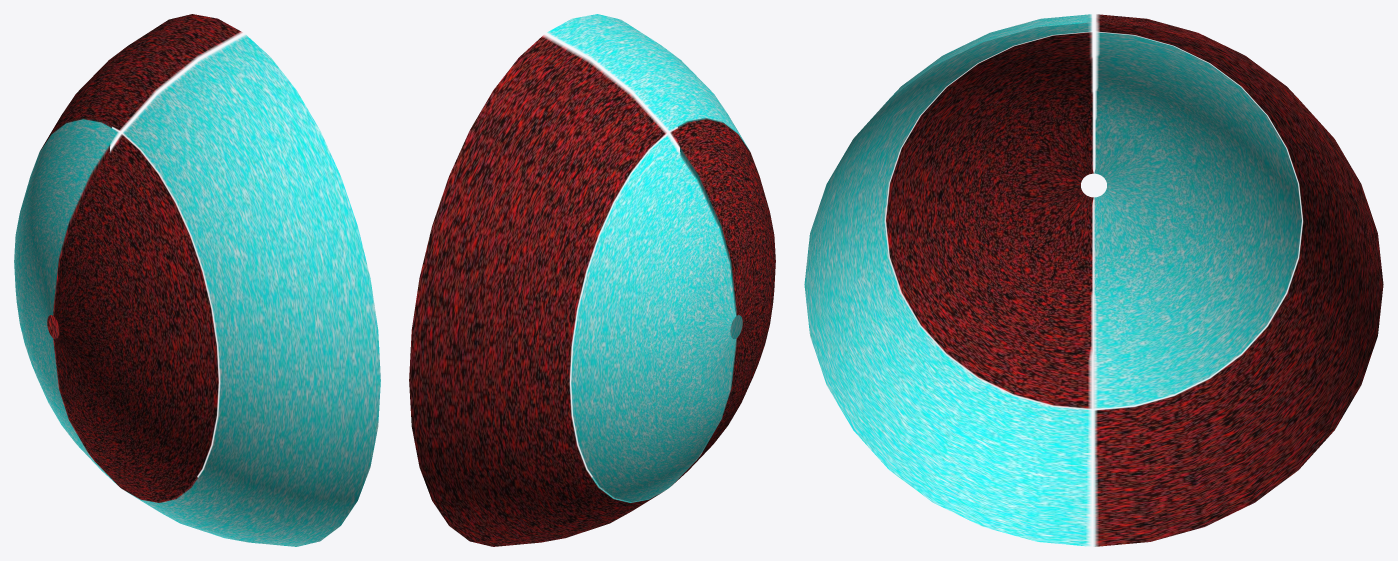
The picture shows the model from 3 angles, left to right: view 1: azimuth 30°, elevation 25°; view 2: azimuth 150°, elevation 25°; view 3: azimuth 270°, elevation 25°; orthographic projection. The views are drawn at different scales.
Parts seen in each view (by area): view 1: SM_HalfSphere_01_LOD0; view 2: SM_HalfSphere_01_LOD0; view 3: SM_HalfSphere_01_LOD0.
Boxes of the visible parts, box(x1,y1,x2,y2) form: SM_HalfSphere_01_LOD0: box(14, 14, 380, 546); SM_HalfSphere_01_LOD0: box(409, 14, 775, 546); SM_HalfSphere_01_LOD0: box(804, 14, 1383, 546).
Size of the model in its own units: 0.233 by 0.5756 by 0.5756.
1 material, 1 textured.
